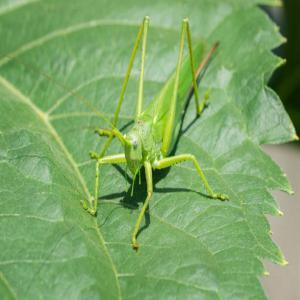locust: (76, 11, 232, 244)
